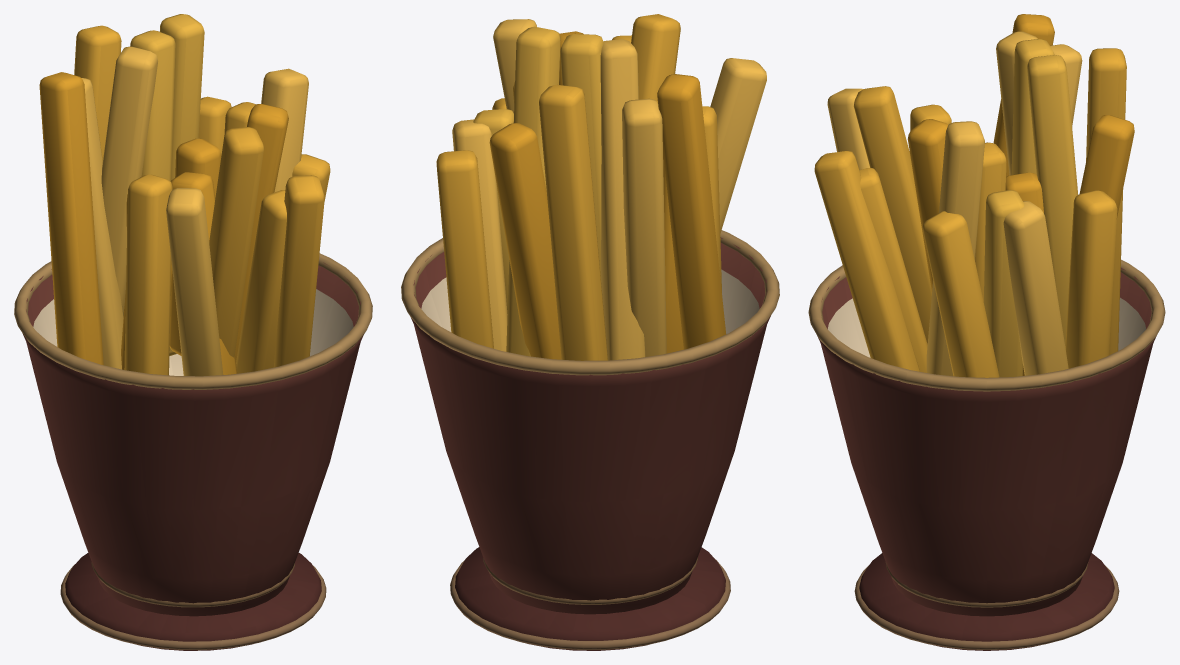
File: fries.glb
3 views of the same model, side by side, from view 1: azimuth 30°, elevation 25°; view 2: azimuth 150°, elevation 25°; view 3: azimuth 270°, elevation 25° (orthographic). The views are drawn at different scales.
Parts seen in each view (by area): view 1: Burgundy_festival_cone, Thick_golden_fry_11, Low_stable_fantasy_foot, Thick_golden_fry_14, Thick_golden_fry_17, Thick_golden_fry_09, Thick_golden_fry_15, Antique_brass_cone_rim, Thick_golden_fry_19, Thick_golden_fry_18, Thick_golden_fry_10, Thick_golden_fry_05 (+12 smaller); view 2: Burgundy_festival_cone, Thick_golden_fry_07, Thick_golden_fry_11, Thick_golden_fry_06, Low_stable_fantasy_foot, Thick_golden_fry_10, Thick_golden_fry_09, Antique_brass_cone_rim, Thick_golden_fry_03, Thick_golden_fry_15, Thick_golden_fry_05, Thick_golden_fry_02 (+9 smaller); view 3: Burgundy_festival_cone, Thick_golden_fry_19, Low_stable_fantasy_foot, Thick_golden_fry_05, Thick_golden_fry_22, Thick_golden_fry_17, Thick_golden_fry_03, Thick_golden_fry_02, Antique_brass_cone_rim, Thick_golden_fry_21, Thick_golden_fry_01, Thick_golden_fry_07 (+14 smaller).
Part boxes in pixels (box(x1,y1,x2,y2)): Burgundy_festival_cone: box(22, 262, 363, 616); Thick_golden_fry_11: box(39, 72, 103, 365); Low_stable_fantasy_foot: box(65, 553, 321, 650); Thick_golden_fry_14: box(124, 174, 172, 375); Thick_golden_fry_17: box(209, 127, 264, 358); Thick_golden_fry_09: box(101, 46, 157, 314); Thick_golden_fry_15: box(166, 188, 223, 376); Antique_brass_cone_rim: box(14, 253, 372, 389); Thick_golden_fry_19: box(273, 175, 324, 367); Thick_golden_fry_18: box(236, 190, 286, 373); Thick_golden_fry_10: box(81, 78, 123, 369); Thick_golden_fry_05: box(160, 14, 204, 355); Burgundy_festival_cone: box(411, 237, 770, 614); Thick_golden_fry_07: box(539, 85, 607, 360); Thick_golden_fry_11: box(657, 74, 725, 349); Thick_golden_fry_06: box(489, 123, 561, 359); Low_stable_fantasy_foot: box(455, 547, 725, 650); Thick_golden_fry_10: box(622, 98, 666, 356); Thick_golden_fry_09: box(600, 39, 645, 360); Antique_brass_cone_rim: box(401, 230, 779, 375); Thick_golden_fry_03: box(436, 150, 493, 348); Thick_golden_fry_15: box(710, 58, 766, 233); Thick_golden_fry_05: box(506, 26, 560, 356); Thick_golden_fry_02: box(452, 119, 507, 351); Burgundy_festival_cone: box(817, 267, 1156, 616); Thick_golden_fry_19: box(814, 151, 919, 371); Low_stable_fantasy_foot: box(859, 553, 1114, 650); Thick_golden_fry_05: box(1027, 55, 1078, 345); Thick_golden_fry_22: box(922, 211, 999, 377); Thick_golden_fry_17: box(853, 86, 931, 343); Thick_golden_fry_03: box(1065, 190, 1117, 368); Thick_golden_fry_02: box(1003, 201, 1068, 375); Antique_brass_cone_rim: box(808, 259, 1165, 391); Thick_golden_fry_21: box(926, 121, 984, 376); Thick_golden_fry_01: box(983, 190, 1024, 377); Thick_golden_fry_07: box(1086, 48, 1126, 355).
Bounding box in the file's own units: 0.518 × 0.8826 × 0.518.
